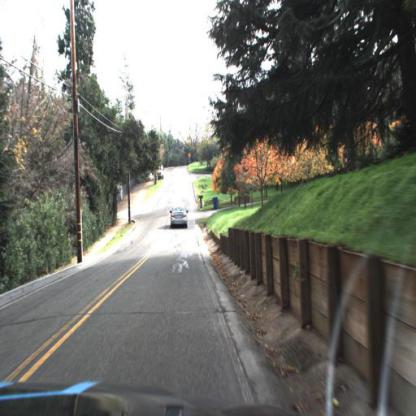car: (168, 203, 188, 233), (154, 164, 164, 181)
truck: (156, 164, 166, 182)
